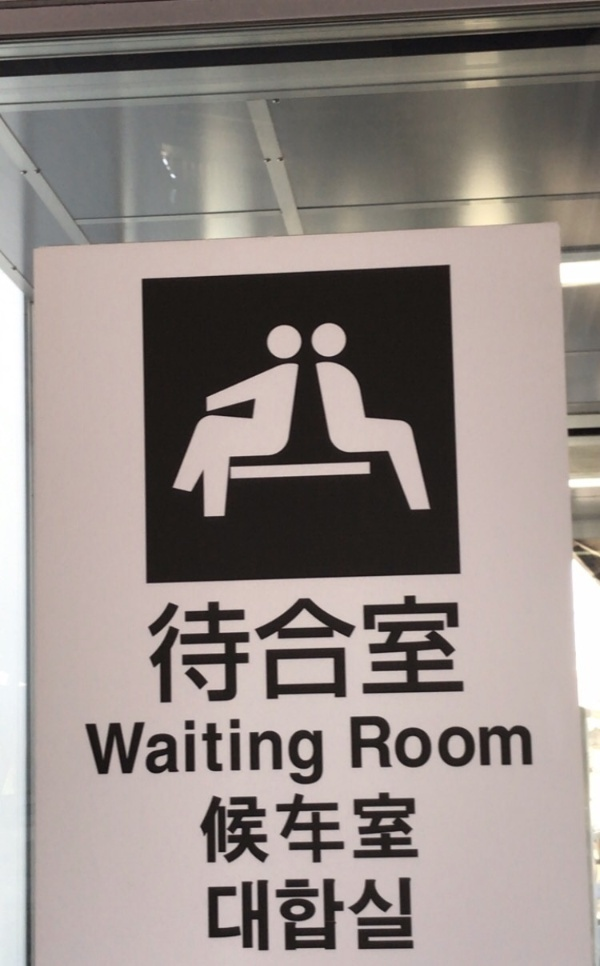text: (161, 594, 176, 707), (177, 594, 192, 707), (193, 594, 208, 707), (209, 594, 224, 707), (225, 594, 240, 707), (241, 594, 256, 707), (257, 594, 272, 707), (273, 594, 288, 707), (289, 594, 304, 707), (305, 594, 320, 707), (321, 594, 336, 707), (337, 594, 352, 707), (353, 594, 368, 707), (369, 594, 384, 707), (385, 594, 400, 707), (401, 594, 416, 707), (417, 594, 432, 707), (433, 594, 448, 707), (449, 594, 464, 707), (148, 594, 160, 707), (401, 877, 417, 956), (209, 877, 224, 956), (225, 877, 240, 956), (241, 877, 256, 956), (257, 877, 272, 956), (273, 877, 288, 956), (289, 877, 304, 956), (305, 877, 320, 956), (321, 877, 336, 956), (337, 877, 352, 956), (353, 877, 368, 956), (369, 877, 384, 956), (385, 877, 400, 956), (209, 790, 224, 867), (225, 790, 240, 867), (241, 790, 256, 867), (257, 790, 272, 867), (273, 790, 288, 867), (289, 790, 304, 867), (305, 790, 320, 867), (321, 790, 336, 867), (337, 790, 352, 867), (353, 790, 368, 867), (369, 790, 384, 867), (385, 790, 400, 867), (401, 790, 416, 867), (97, 718, 112, 790), (113, 718, 128, 790), (129, 718, 144, 790), (145, 718, 160, 790), (161, 718, 176, 790), (177, 718, 192, 790), (193, 718, 208, 790), (209, 718, 224, 790), (225, 718, 240, 790), (241, 718, 256, 790), (257, 718, 272, 790), (273, 718, 288, 790), (289, 718, 304, 790), (305, 718, 320, 790), (83, 718, 96, 790), (353, 717, 368, 774), (369, 717, 384, 774), (385, 717, 400, 774), (401, 717, 416, 774), (417, 717, 432, 774), (433, 717, 448, 774), (449, 717, 464, 774), (465, 717, 480, 774), (481, 717, 496, 774), (497, 717, 512, 774), (513, 717, 528, 774), (198, 790, 208, 867), (417, 790, 421, 867), (529, 717, 534, 774), (349, 717, 352, 774), (321, 718, 323, 790), (465, 594, 466, 707), (207, 877, 208, 956)
